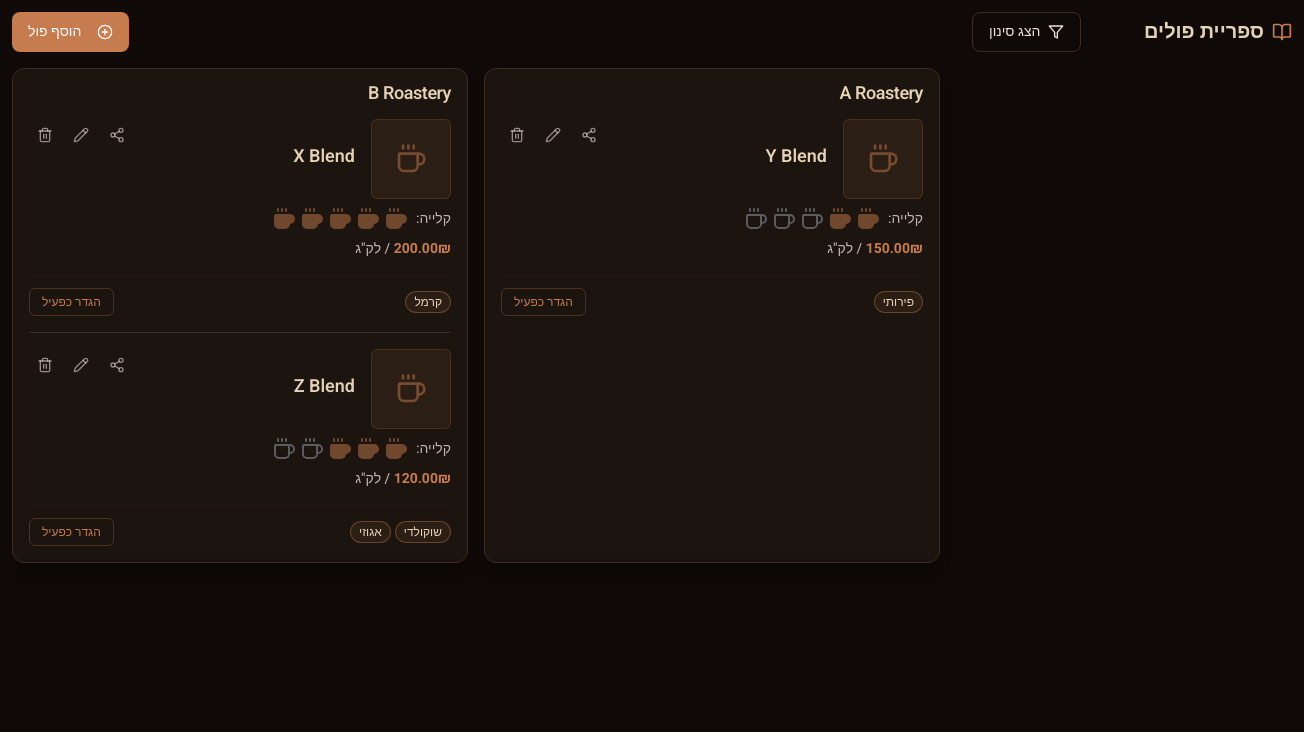
Test case: BeanLibrary › clears filters
// Open filter and apply a filter
Step 1. Click the button "הצג סינון" → x=1027, y=32, box [972, 12, 1082, 52]
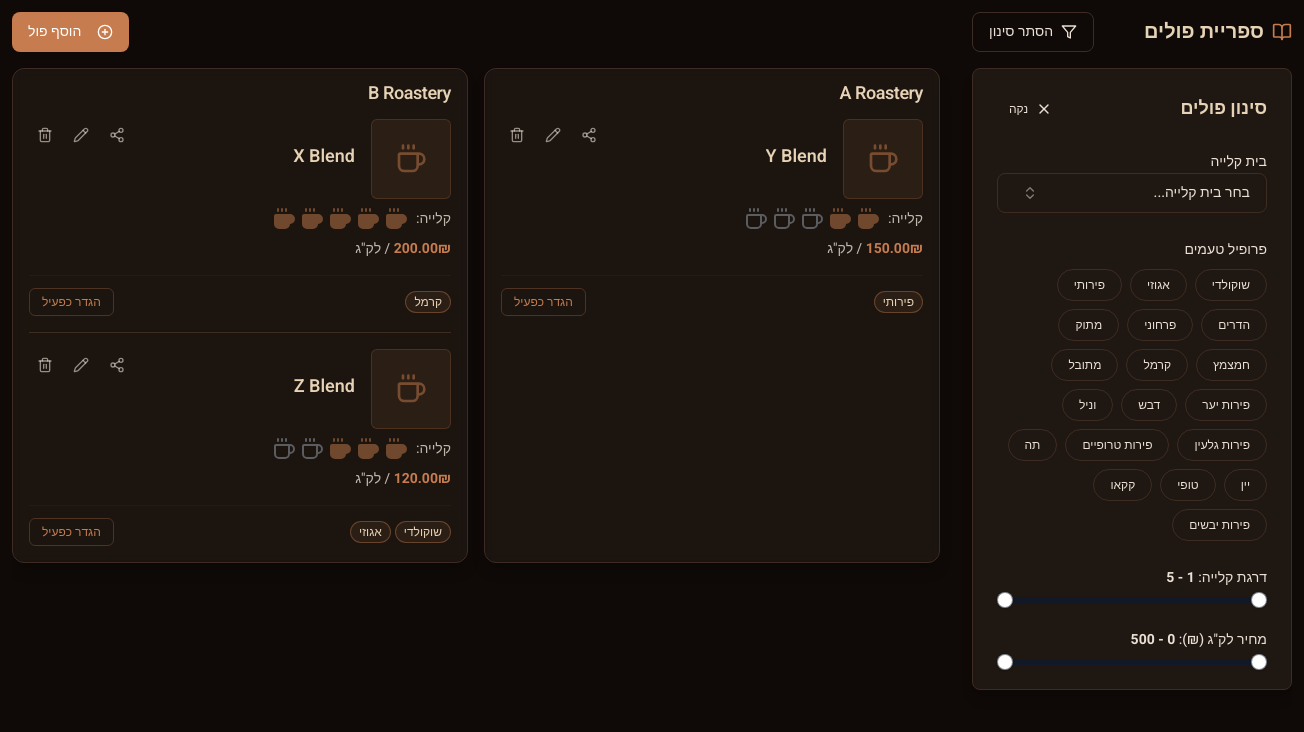
Step 2. Click the button "שוקולדי" → x=1231, y=285, box [1195, 269, 1267, 301]
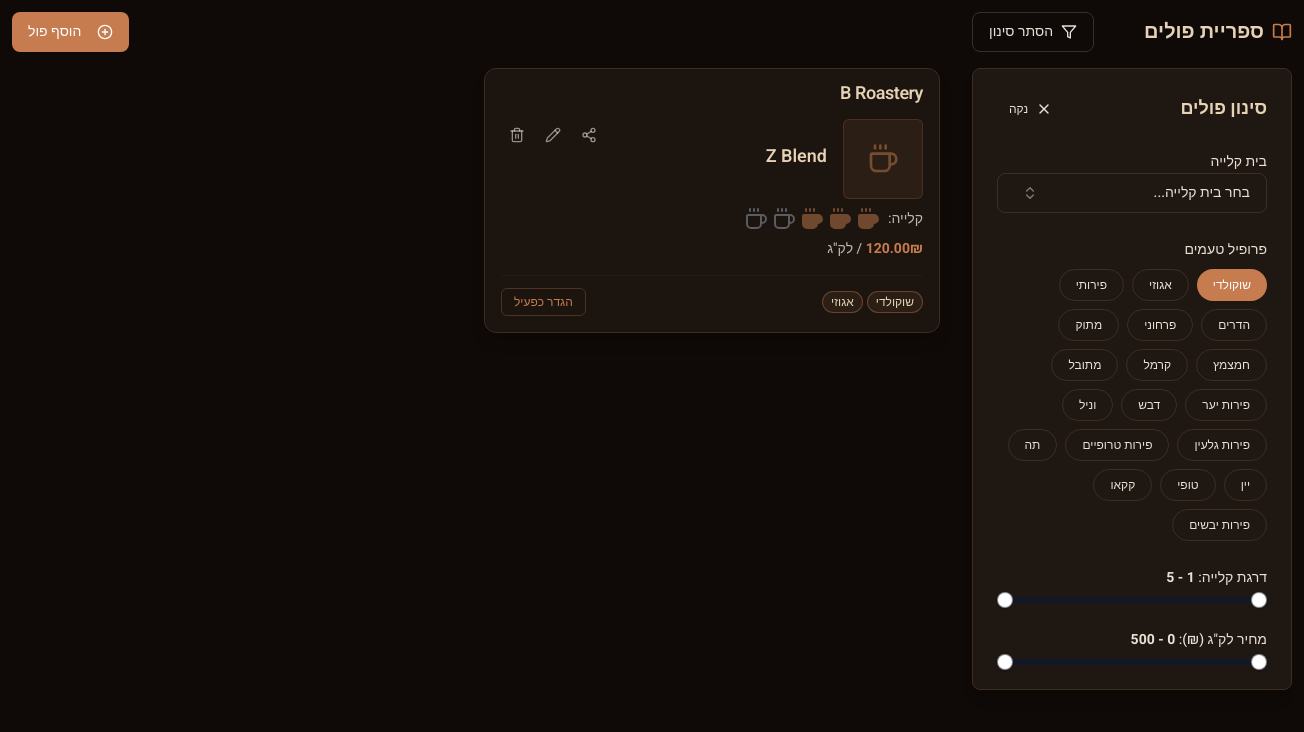
Now the number of headings with test id "roastery-title" is 1, box [840, 80, 923, 107]
// Clear filters
Step 3. Click the button "נקה" → x=1031, y=109, box [997, 93, 1064, 125]
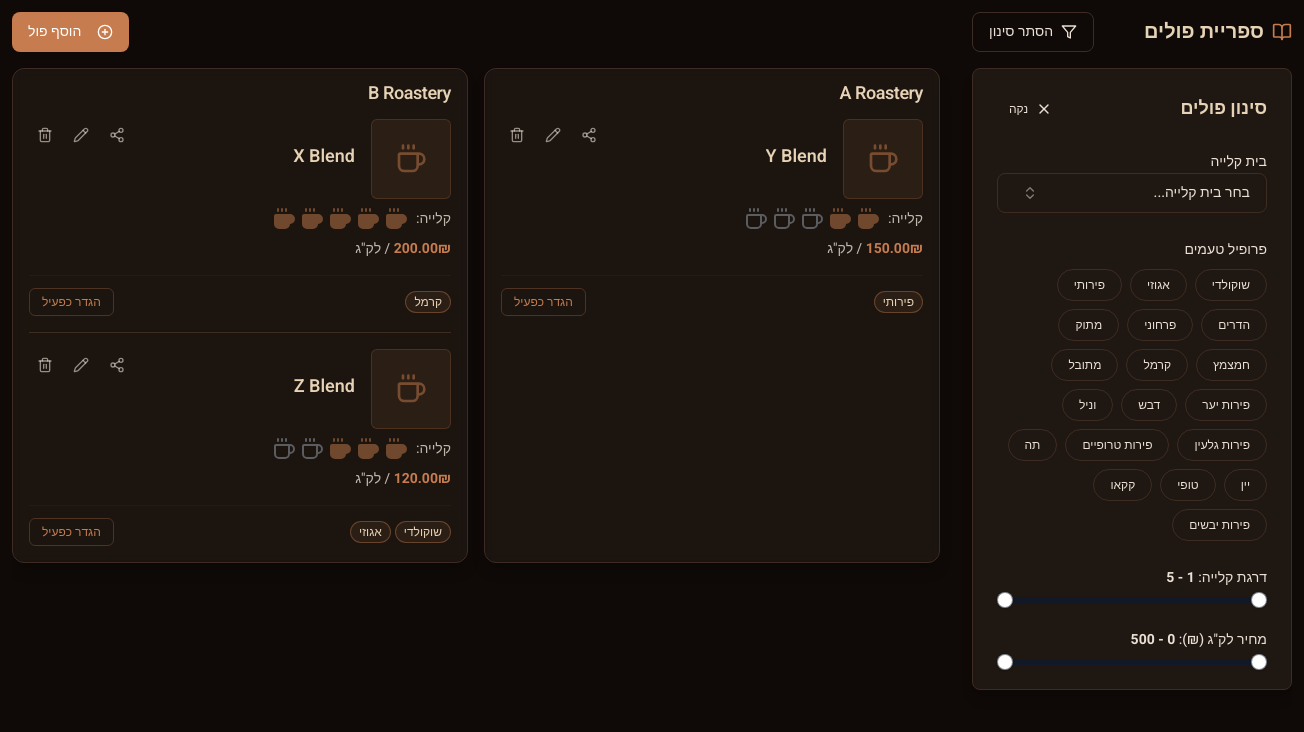
Now the number of headings with test id "roastery-title" is 2, box [840, 80, 923, 107]; [368, 80, 451, 107]
